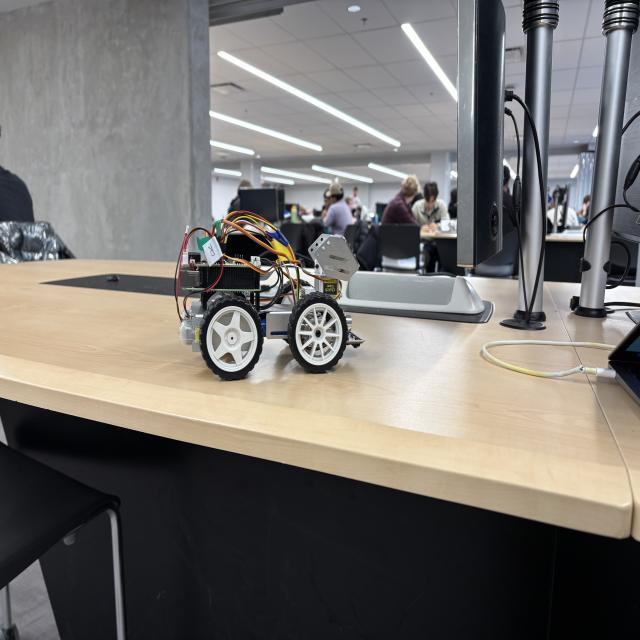vehicle: (177, 213, 365, 379)
